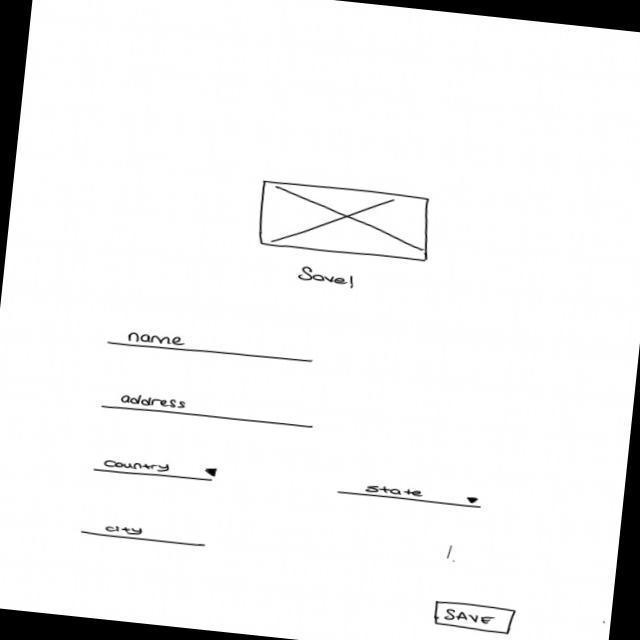button: (432, 599, 520, 638)
image: (254, 178, 437, 266)
input: (99, 389, 317, 432), (104, 327, 315, 367), (80, 518, 209, 550)
label: (296, 264, 359, 292)
select: (336, 479, 486, 512), (91, 451, 221, 487)
